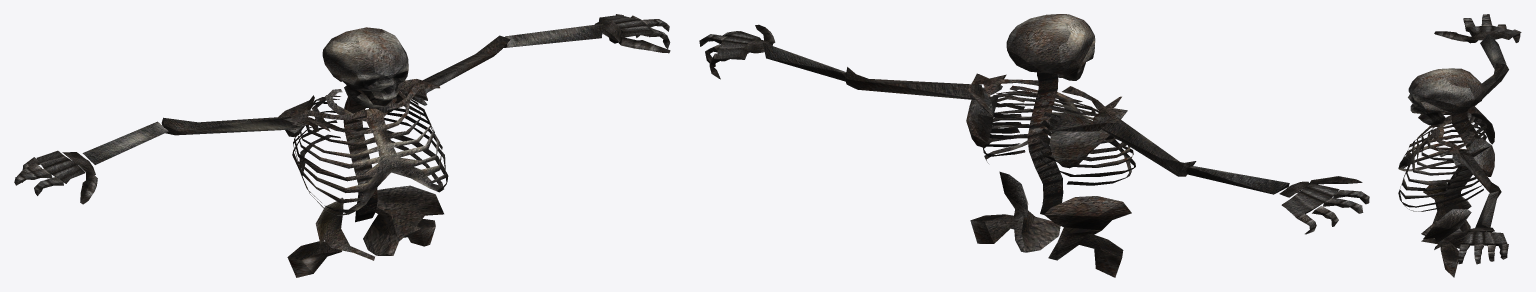
File: quicksandlurker-lod0.glb
3 views of the same model, side by side, from view 1: azimuth 30°, elevation 25°; view 2: azimuth 150°, elevation 25°; view 3: azimuth 270°, elevation 25° (orthographic). The views are drawn at different scales.
Parts seen in each view (by area): view 1: mesh0000; view 2: mesh0000; view 3: mesh0000.
Boxes of the visible parts, left/top/right/bottom form: mesh0000: left=14, top=14, right=670, bottom=277; mesh0000: left=699, top=14, right=1369, bottom=277; mesh0000: left=1398, top=14, right=1521, bottom=277.
Bounding box in the file's own units: 6.53 × 2.2 × 1.38.
Materials: 1 (1 with a texture image).
